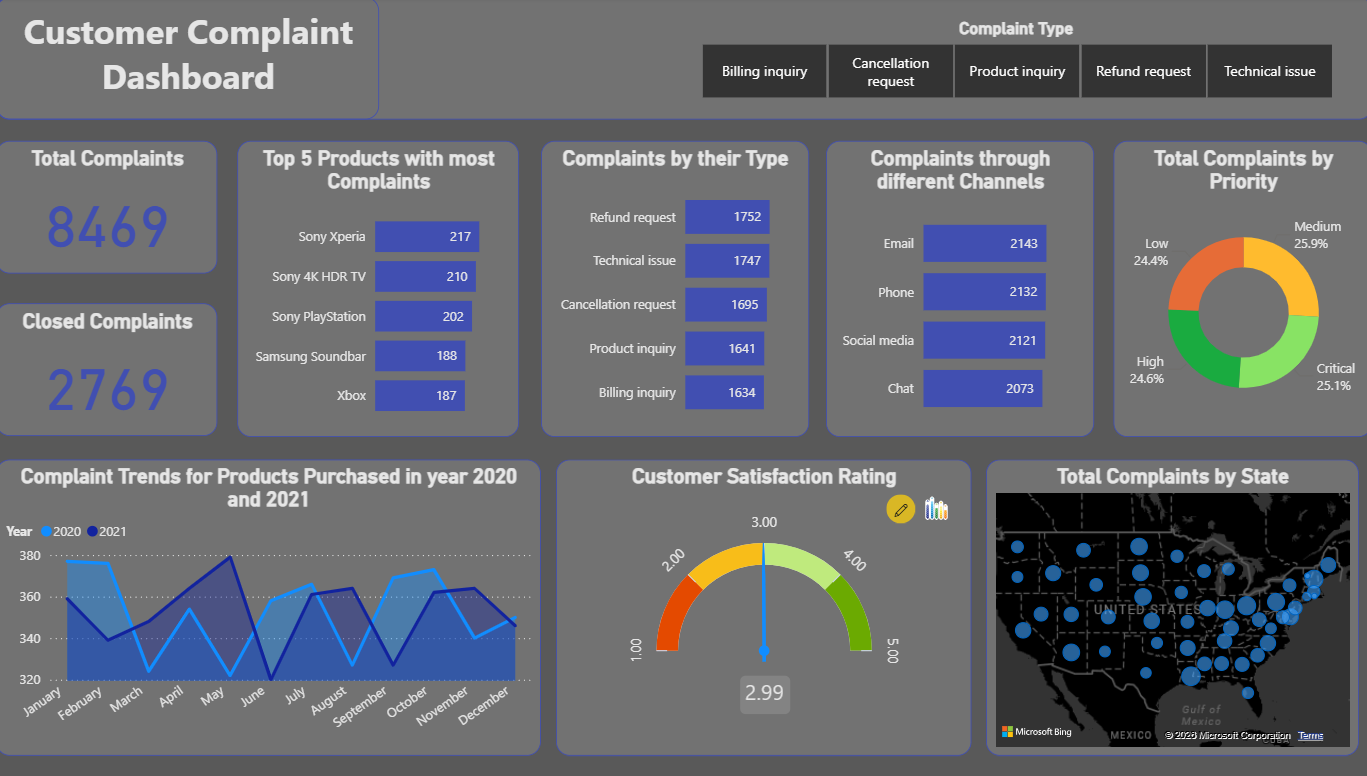

What the dashboard file says about the page in this screenshot:
{"tool":"powerbi","page":{"name":"Main","canvas":[1293,739],"ordinal":0},"visuals":[{"type":"clusteredBarChart","title":"Complaints by their Type","fields":{"Category":["customer_support_tickets.Ticket Type"],"Y":["Count(customer_support_tickets.Ticket ID)"]},"box":[511.7,135,251.7,278.3],"z":0},{"type":"clusteredBarChart","title":"Complaints through different Channels","fields":{"Y":["CountNonNull(customer_support_tickets.Ticket ID)"],"Category":["customer_support_tickets.Ticket Channel"]},"box":[780,135,251.7,278.3],"z":1000},{"type":"clusteredBarChart","title":"Top 5 Products with most Complaints","fields":{"Y":["Count(customer_support_tickets.Ticket ID)"],"Category":["customer_support_tickets.Product Purchased"]},"box":[226.7,135,265,278.3],"z":2000},{"type":"areaChart","title":"Complaint Trends for Products Purchased in year 2020 and 2021","fields":{"Y":["CountNonNull(customer_support_tickets.Ticket ID)"],"Category":["customer_support_tickets.Date of Purchase.Variation.Date Hierarchy.Month","customer_support_tickets.Date of Purchase.Variation.Date Hierarchy.Day"],"Series":["customer_support_tickets.Date of Purchase.Variation.Date Hierarchy.Year"]},"box":[0,435,511.7,278.3],"z":3000},{"type":"advancedGauge97290A2225EA4EB5BC5C8D85F9ACA7DABETA","title":"Customer Satisfaction Rating","fields":{"value1":["Avg(customer_support_tickets.Customer Satisfaction Rating)"],"minimum1":["Min(customer_support_tickets.Customer Satisfaction Rating)1"],"maximum1":["Max(customer_support_tickets.Customer Satisfaction Rating)2"]},"box":[526.7,435,390,278.3],"z":4000},{"type":"card","title":"Total Complaints","fields":{"Values":["CountNonNull(customer_support_tickets.Ticket ID)"]},"box":[0,135,208.3,125],"z":5000},{"type":"card","title":"Closed Complaints","fields":{"Values":["CountNonNull(customer_support_tickets.Ticket Status)"]},"box":[0,288.3,208.3,125],"z":6000},{"type":"map","title":"Total Complaints by State","fields":{"Category":["customer_support_tickets.State"],"Size":["CountNonNull(customer_support_tickets.Ticket ID)"]},"box":[930,435,350,278.3],"z":7000},{"type":"donutChart","fields":{"Y":["Count(customer_support_tickets.Ticket ID)"],"Category":["customer_support_tickets.Ticket Priority"]},"box":[1050,135,243.3,278.3],"z":8000},{"type":"shape","box":[0,0,1293.3,115],"z":9000},{"type":"textbox","box":[0,0,360,115],"z":10000},{"type":"slicer","title":"Complaint Type","fields":{"Values":["customer_support_tickets.Ticket Type"]},"box":[638.3,20,641.7,81.7],"z":11000}]}

Visuals, with their boxes in screenshot pixels (x1, y1, x2, y2), scaled from the page's 1293x739 canvas onto the 1367x776 screenshot:
"Complaints by their Type" clusteredBarChart: [x1=541, y1=142, x2=807, y2=434]
"Complaints through different Channels" clusteredBarChart: [x1=825, y1=142, x2=1091, y2=434]
"Top 5 Products with most Complaints" clusteredBarChart: [x1=240, y1=142, x2=520, y2=434]
"Complaint Trends for Products Purchased in year 2020 and 2021" areaChart: [x1=0, y1=457, x2=541, y2=749]
"Customer Satisfaction Rating" advancedGauge97290A2225EA4EB5BC5C8D85F9ACA7DABETA: [x1=557, y1=457, x2=969, y2=749]
"Total Complaints" card: [x1=0, y1=142, x2=220, y2=273]
"Closed Complaints" card: [x1=0, y1=303, x2=220, y2=434]
"Total Complaints by State" map: [x1=983, y1=457, x2=1353, y2=749]
donutChart - Count(customer_support_tickets.Ticket ID) x customer_support_tickets.Ticket Priority: [x1=1110, y1=142, x2=1366, y2=434]
shape: [x1=0, y1=0, x2=1366, y2=121]
textbox: [x1=0, y1=0, x2=381, y2=121]
"Complaint Type" slicer: [x1=675, y1=21, x2=1353, y2=107]
